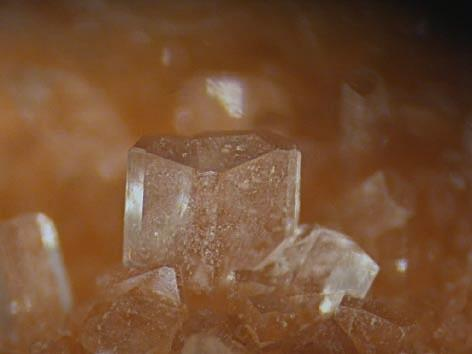calcite: (0, 133, 416, 354)
